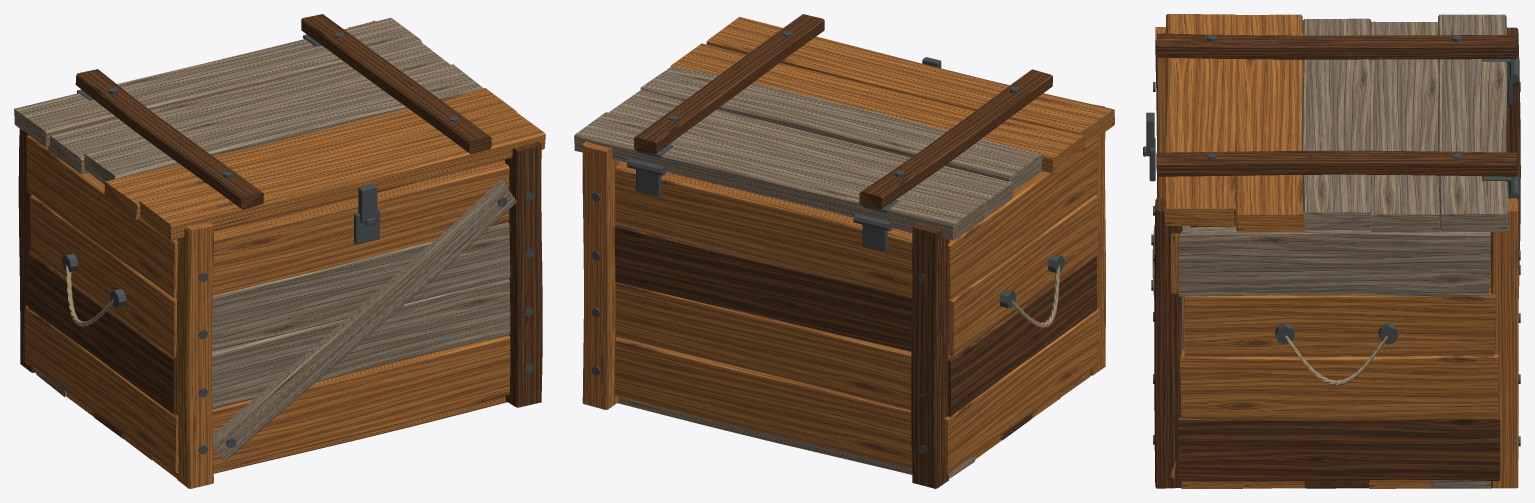
The model's file is wooden-crate.glb.
The picture shows the model from 3 angles, left to right: view 1: azimuth 30°, elevation 25°; view 2: azimuth 150°, elevation 25°; view 3: azimuth 270°, elevation 25°; orthographic projection. The views are drawn at different scales.
Parts seen in each view (by area): view 1: GEO-CrateBody-Wood-Warm, GEO-CrateBody-Wood-Grey, GEO-CrateLid-Wood-Grey, GEO-CrateLid-Wood-Warm, GEO-CrateBody-Wood-Dark, GEO-CrateLid-Wood-Dark, GEO-CrateBody-AgedIron, GEO-CrateLid-AgedIron; view 2: GEO-CrateBody-Wood-Warm, GEO-CrateLid-Wood-Grey, GEO-CrateBody-Wood-Dark, GEO-CrateLid-Wood-Warm, GEO-CrateLid-Wood-Dark, GEO-CrateBody-AgedIron, GEO-CrateBody-Wood-Grey, GEO-CrateLid-AgedIron; view 3: GEO-CrateBody-Wood-Warm, GEO-CrateLid-Wood-Grey, GEO-CrateBody-Wood-Dark, GEO-CrateLid-Wood-Warm, GEO-CrateBody-Wood-Grey, GEO-CrateLid-Wood-Dark, GEO-CrateBody-AgedIron, GEO-CrateLid-AgedIron, GEO-CrateBody-Hemp.
Boxes of the visible parts, bbox=[...] form: GEO-CrateBody-Wood-Warm: bbox=[24, 20, 510, 488]; GEO-CrateBody-Wood-Grey: bbox=[35, 180, 517, 460]; GEO-CrateLid-Wood-Grey: bbox=[14, 17, 483, 184]; GEO-CrateLid-Wood-Warm: bbox=[104, 88, 545, 240]; GEO-CrateBody-Wood-Dark: bbox=[18, 128, 542, 438]; GEO-CrateLid-Wood-Dark: bbox=[75, 14, 491, 209]; GEO-CrateBody-AgedIron: bbox=[61, 192, 533, 454]; GEO-CrateLid-AgedIron: bbox=[77, 32, 458, 223]; GEO-CrateBody-Wood-Warm: bbox=[582, 104, 1105, 475]; GEO-CrateLid-Wood-Grey: bbox=[574, 65, 1042, 240]; GEO-CrateBody-Wood-Dark: bbox=[614, 223, 1097, 488]; GEO-CrateLid-Wood-Warm: bbox=[670, 16, 1114, 174]; GEO-CrateLid-Wood-Dark: bbox=[633, 14, 1052, 209]; GEO-CrateBody-AgedIron: bbox=[591, 158, 1064, 453]; GEO-CrateBody-Wood-Grey: bbox=[617, 161, 975, 478]; GEO-CrateLid-AgedIron: bbox=[636, 31, 1019, 212]; GEO-CrateBody-Wood-Warm: bbox=[1155, 27, 1518, 488]; GEO-CrateLid-Wood-Grey: bbox=[1301, 14, 1508, 232]; GEO-CrateBody-Wood-Dark: bbox=[1154, 27, 1520, 488]; GEO-CrateLid-Wood-Warm: bbox=[1164, 14, 1305, 232]; GEO-CrateBody-Wood-Grey: bbox=[1152, 225, 1491, 488]; GEO-CrateLid-Wood-Dark: bbox=[1156, 33, 1517, 176]; GEO-CrateBody-AgedIron: bbox=[1143, 57, 1520, 446]; GEO-CrateLid-AgedIron: bbox=[1146, 35, 1511, 181]; GEO-CrateBody-Hemp: bbox=[1285, 335, 1388, 385].
Size of the model in its own units: 1.18 by 0.7825 by 0.8776.
5 materials, 3 textured.
